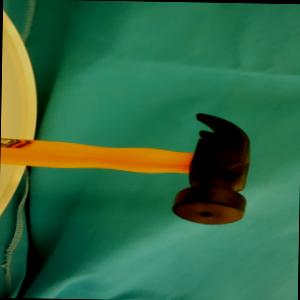martelo: (0, 107, 251, 224)
